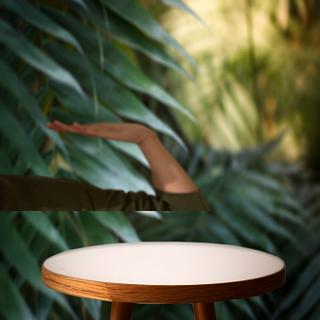WAIT: (41, 114, 158, 148)
